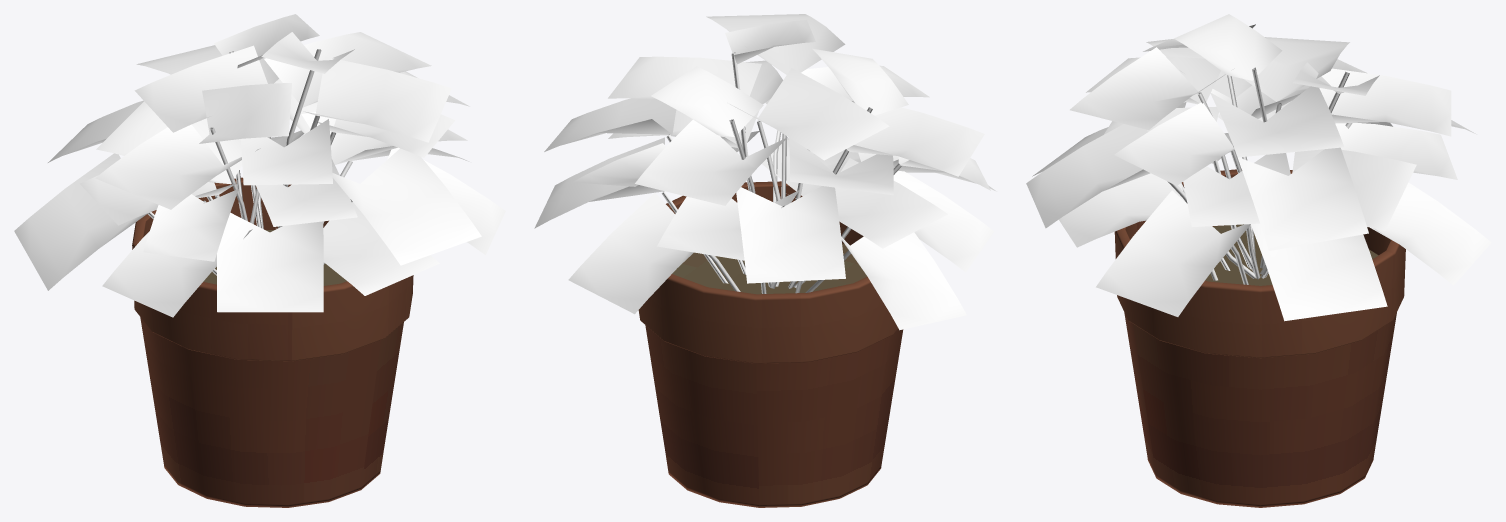
File: a_com_house_a01_plant06_brown_green.gltf
The picture shows the model from 3 angles, left to right: view 1: azimuth 30°, elevation 25°; view 2: azimuth 150°, elevation 25°; view 3: azimuth 270°, elevation 25°; orthographic projection. The views are drawn at different scales.
Visible parts, largest first — view 1: um_a_com_house_a01_plant06_model_a_com_house_a01_plant06_mod (×2); view 2: um_a_com_house_a01_plant06_model_a_com_house_a01_plant06_mod (×2); view 3: um_a_com_house_a01_plant06_model_a_com_house_a01_plant06_mod (×2).
Boxes of the visible parts, x1,y1,x2,y2 form: um_a_com_house_a01_plant06_model_a_com_house_a01_plant06_mod (×2): (14,14,505,507); um_a_com_house_a01_plant06_model_a_com_house_a01_plant06_mod (×2): (534,14,996,507); um_a_com_house_a01_plant06_model_a_com_house_a01_plant06_mod (×2): (1026,14,1491,507).
Size of the model in its own units: 0.2916 by 0.2795 by 0.2727.
2 materials, 1 textured.
